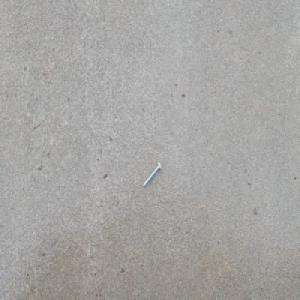Nail: (142, 161, 162, 189)
